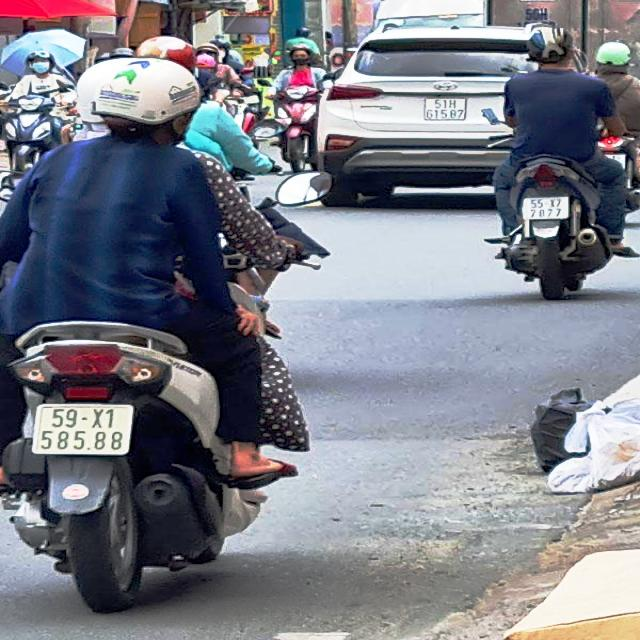license_plate: (30, 405, 131, 455), (526, 196, 570, 222), (425, 98, 468, 122)
